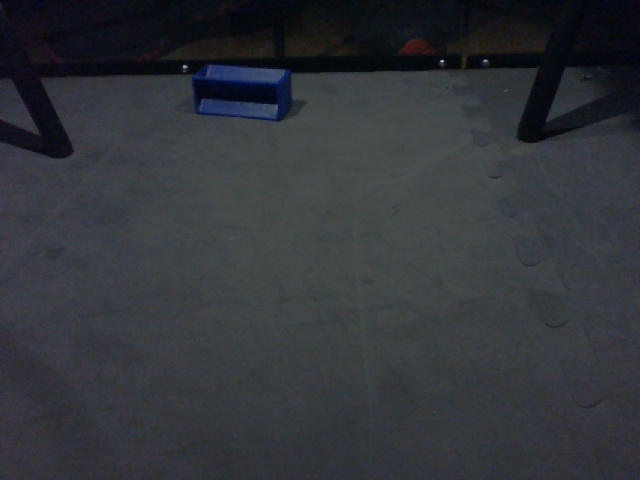BlueSample: (189, 62, 295, 127)
